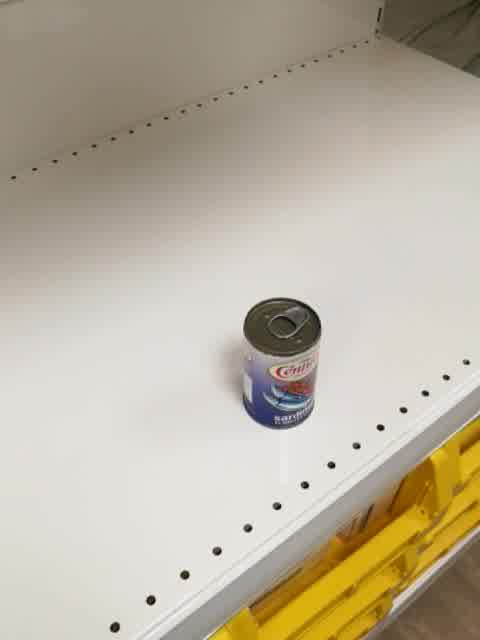sardine: (242, 297, 324, 432)
